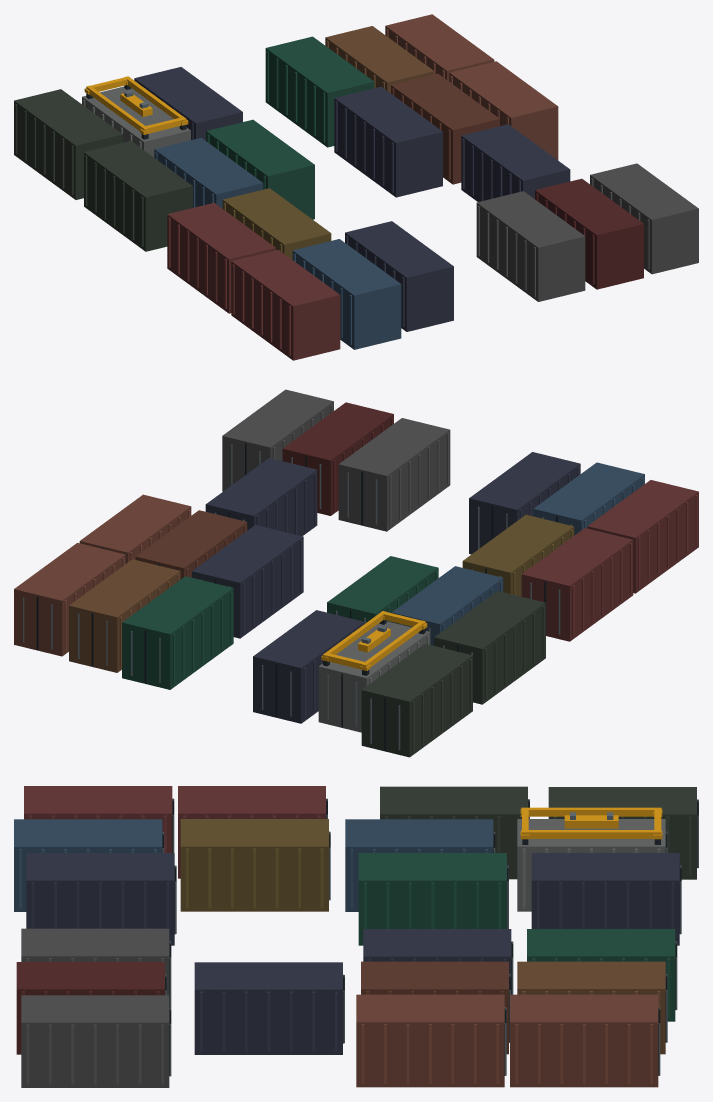
Rendered from containers-n-s-02.glb.
3 renders of one model, top to bottom at view 1: azimuth 30°, elevation 25°; view 2: azimuth 150°, elevation 25°; view 3: azimuth 270°, elevation 25°, orthographic. The views are drawn at different scales.
Parts seen in each view (by area): view 1: containers-n-s-02; view 2: containers-n-s-02; view 3: containers-n-s-02.
Part boxes in pixels (x1,y1,x2,y2): containers-n-s-02: [14, 14, 698, 360]; containers-n-s-02: [14, 389, 698, 757]; containers-n-s-02: [14, 786, 698, 1087].
Bounding box in the file's own units: 50.16 × 8.25 × 61.01.
